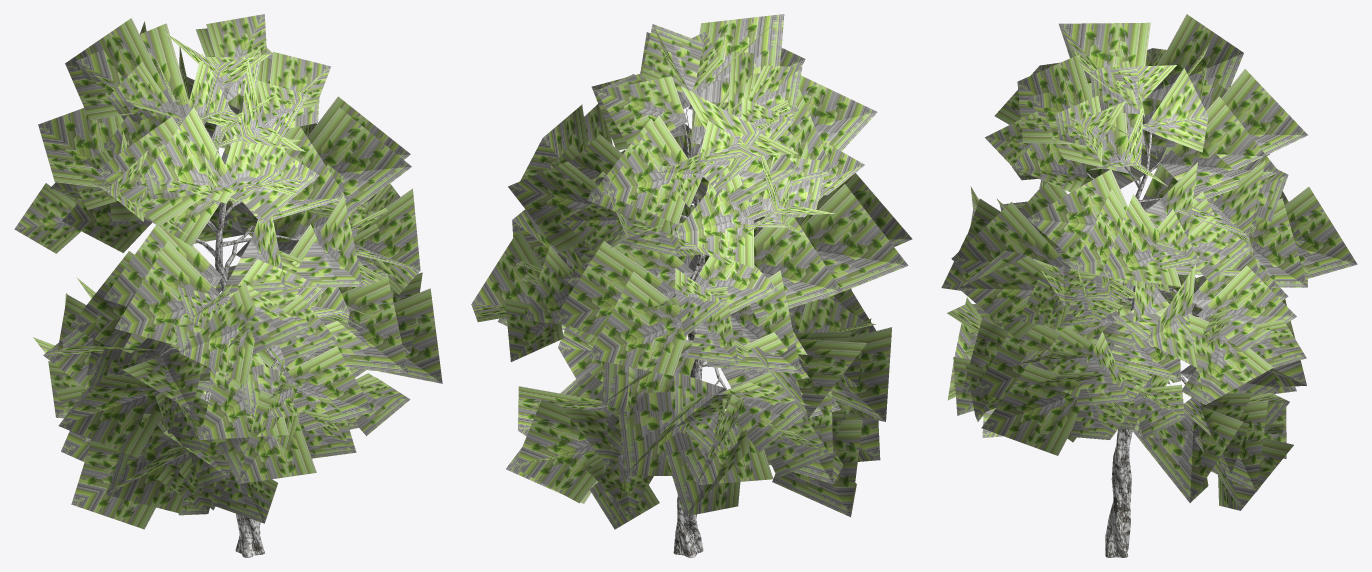
Rendered from birch02.obj.
3 renders of one model, left to right at view 1: azimuth 30°, elevation 25°; view 2: azimuth 150°, elevation 25°; view 3: azimuth 270°, elevation 25°, orthographic. The views are drawn at different scales.
Visible parts, largest first — view 1: tree; view 2: tree; view 3: tree.
Boxes of the visible parts, x1,y1,x2,y2 form: tree: [14, 14, 442, 557]; tree: [471, 14, 912, 557]; tree: [941, 14, 1357, 557].
Bounding box in the file's own units: 171 × 238 × 179.
2 materials, 2 textured.
